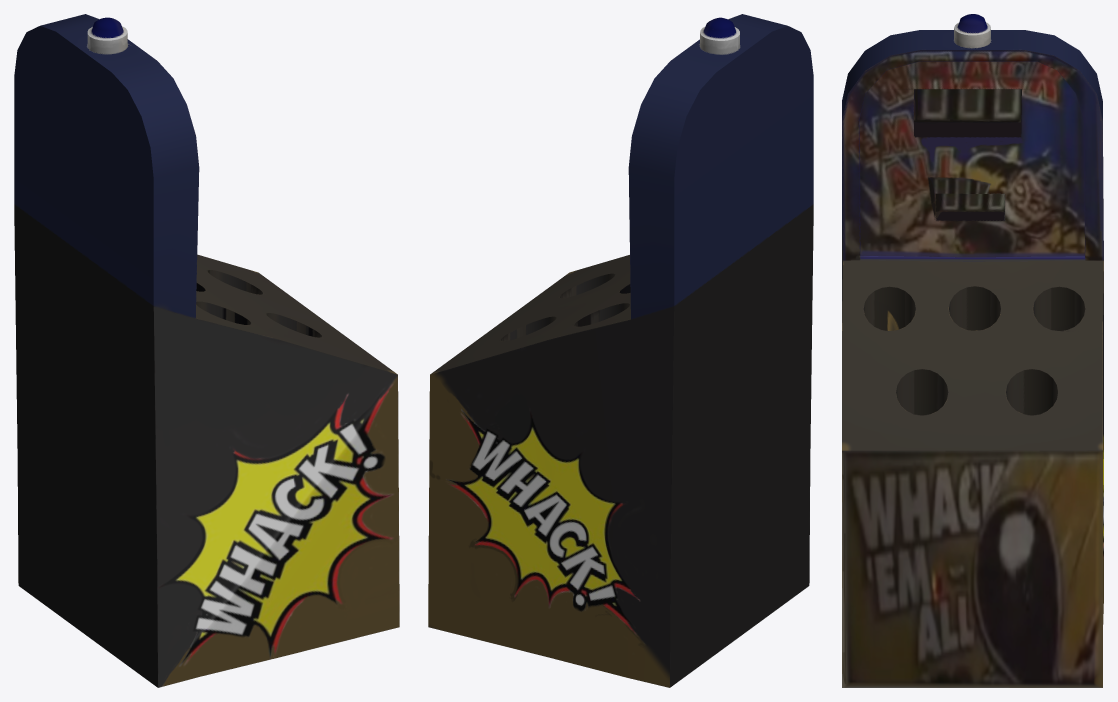
File: whack_em_allwhack_a_mole_machine.glb
3 renders of one model, left to right at view 1: azimuth 30°, elevation 25°; view 2: azimuth 150°, elevation 25°; view 3: azimuth 270°, elevation 25°, orthographic. The views are drawn at different scales.
Parts seen in each view (by area): view 1: Object_2; view 2: Object_2; view 3: Object_2.
Part boxes in pixels (x1,y1,x2,y2): Object_2: (14,14,399,687); Object_2: (428,14,813,687); Object_2: (842,14,1103,687).
Bounding box in the file's own units: 10.18 × 24.23 × 10.04.
Materials: 1 (1 with a texture image).
